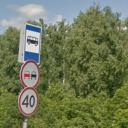speed_limit_40: (17, 86, 43, 118)
